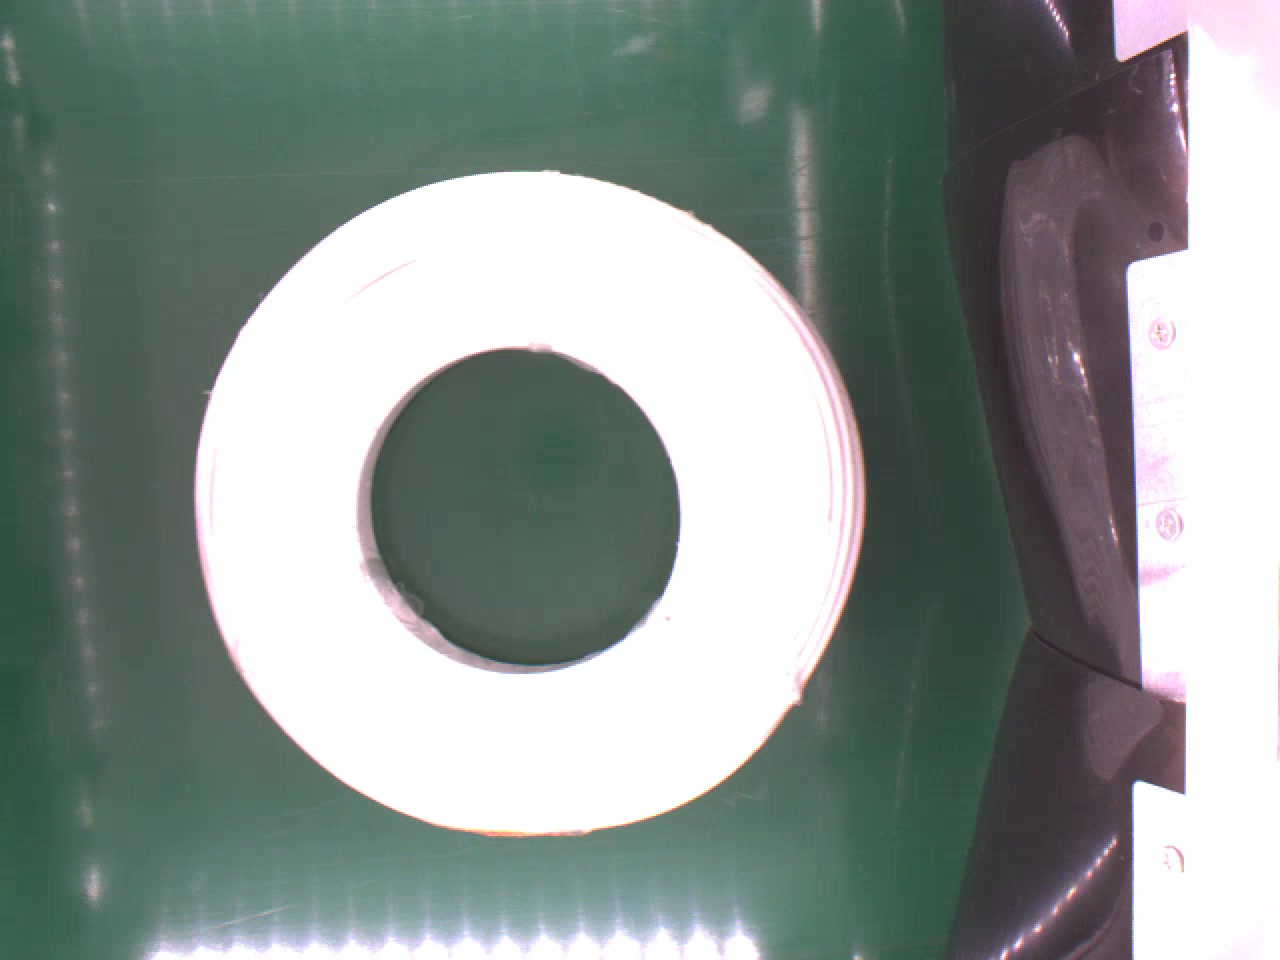white: (190, 164, 865, 837)
